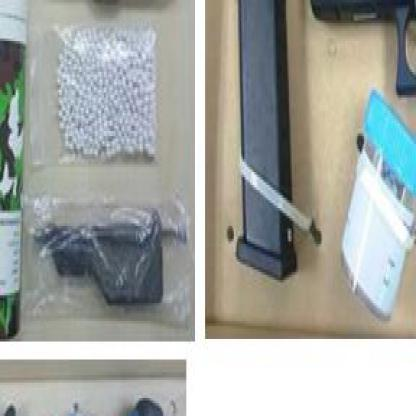gun: (301, 0, 415, 296)
